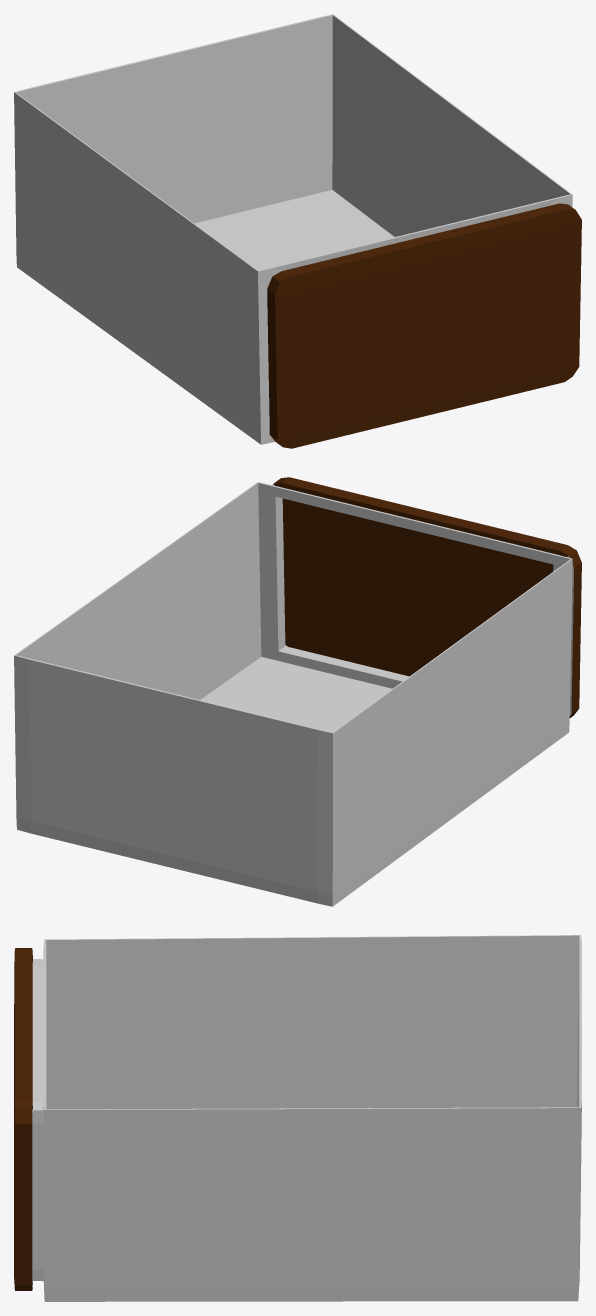
Rendered from drawer1.glb.
3 renders of one model, top to bottom at view 1: azimuth 30°, elevation 25°; view 2: azimuth 150°, elevation 25°; view 3: azimuth 270°, elevation 25°, orthographic. The views are drawn at different scales.
Parts seen in each view (by area): view 1: Cube.037; view 2: Cube.037; view 3: Cube.037.
Boxes of the visible parts, x1,y1,x2,y2 form: Cube.037: (14,14,581,448); Cube.037: (14,477,581,906); Cube.037: (14,935,581,1301).
Bounding box in the file's own units: 1.49 × 0.793 × 2.07.
